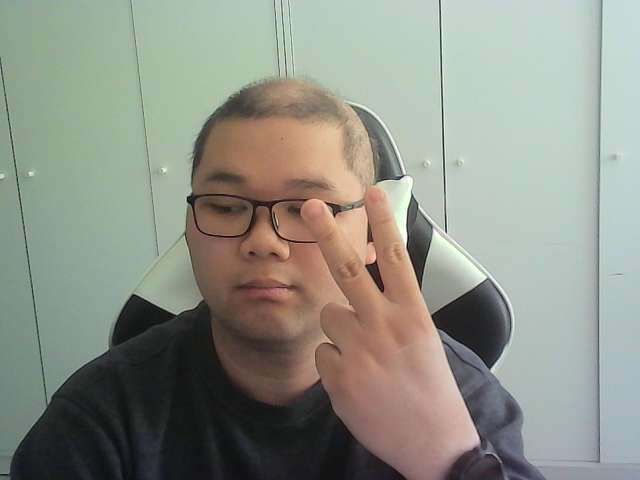Two: (300, 186, 470, 446)
